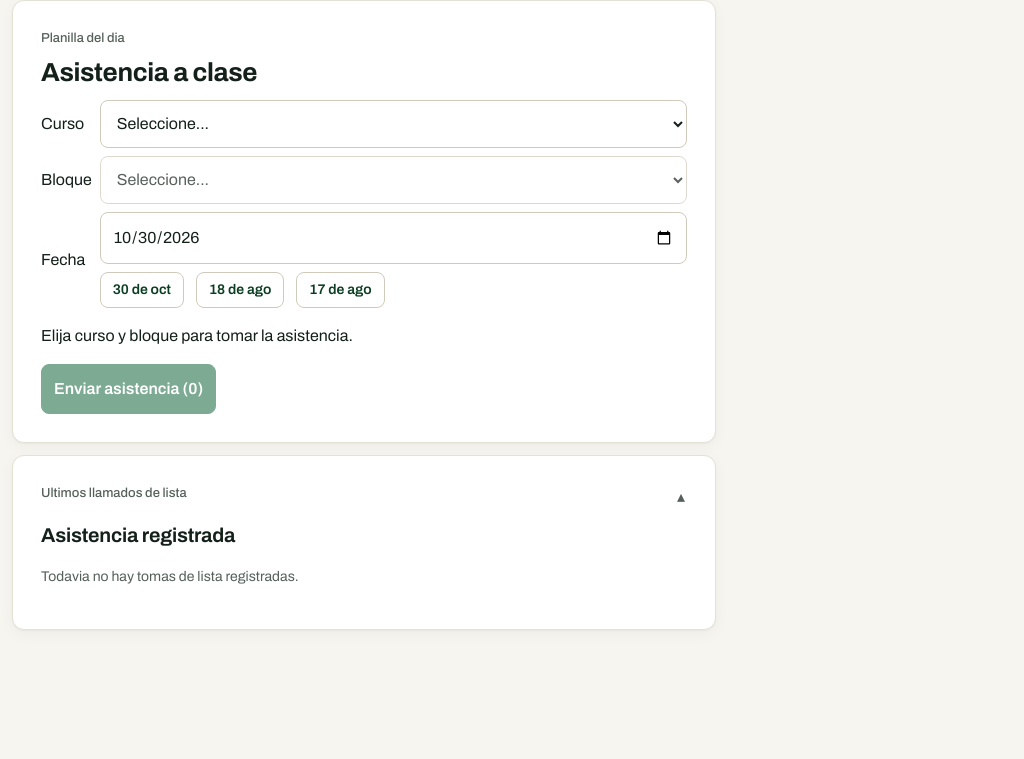
Test: TomarAsistencia › al abrir un bloque ya registrado muestra lo que hay guardado
Check: the dropdown labelled "Curso" is shown, box [100,100,687,148]
In the date field labelled "Fecha": [393, 238] box [100,212,687,264], type "2026-08-17"
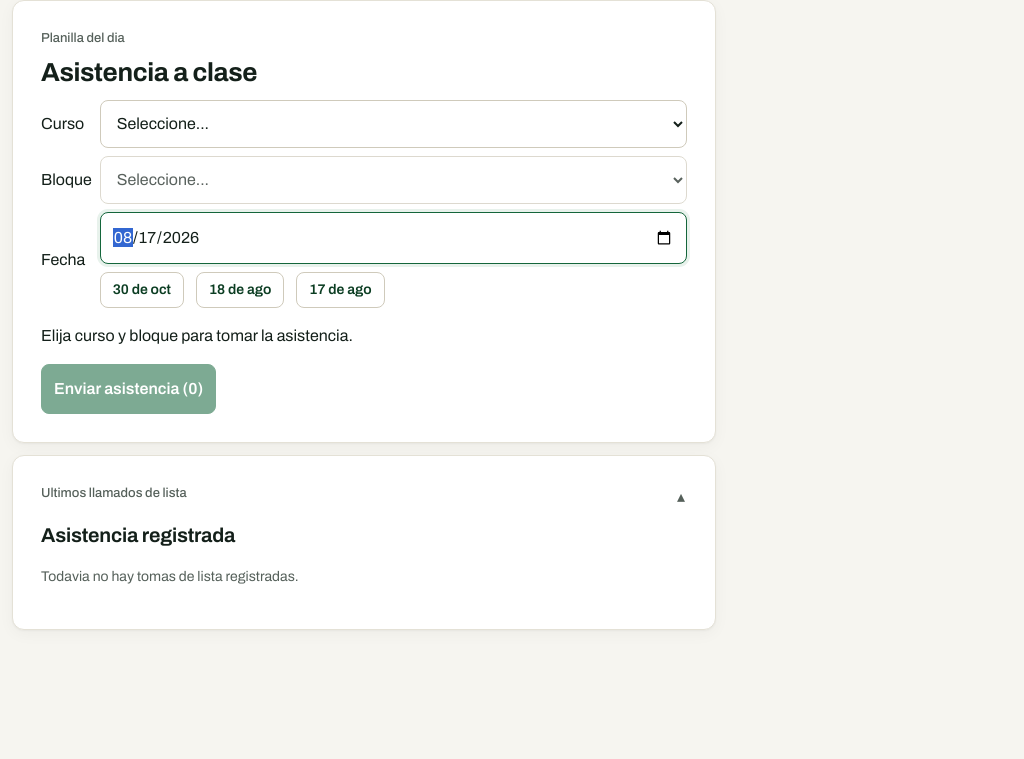
Select "601" in the dropdown labelled "Curso": [393, 124] box [100,100,687,148]
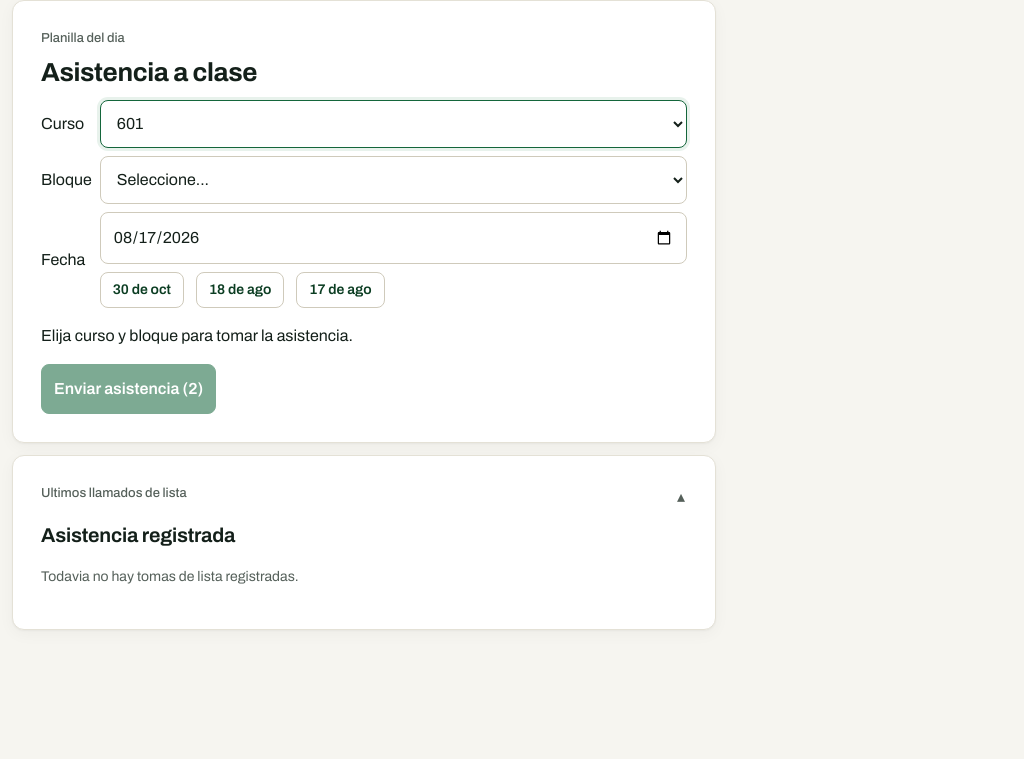
Check: the dropdown labelled "Bloque" is enabled
Select "4. Ciencias (09:00) · Dia 1" in the dropdown labelled "Bloque": [393, 180] box [100,156,687,204]
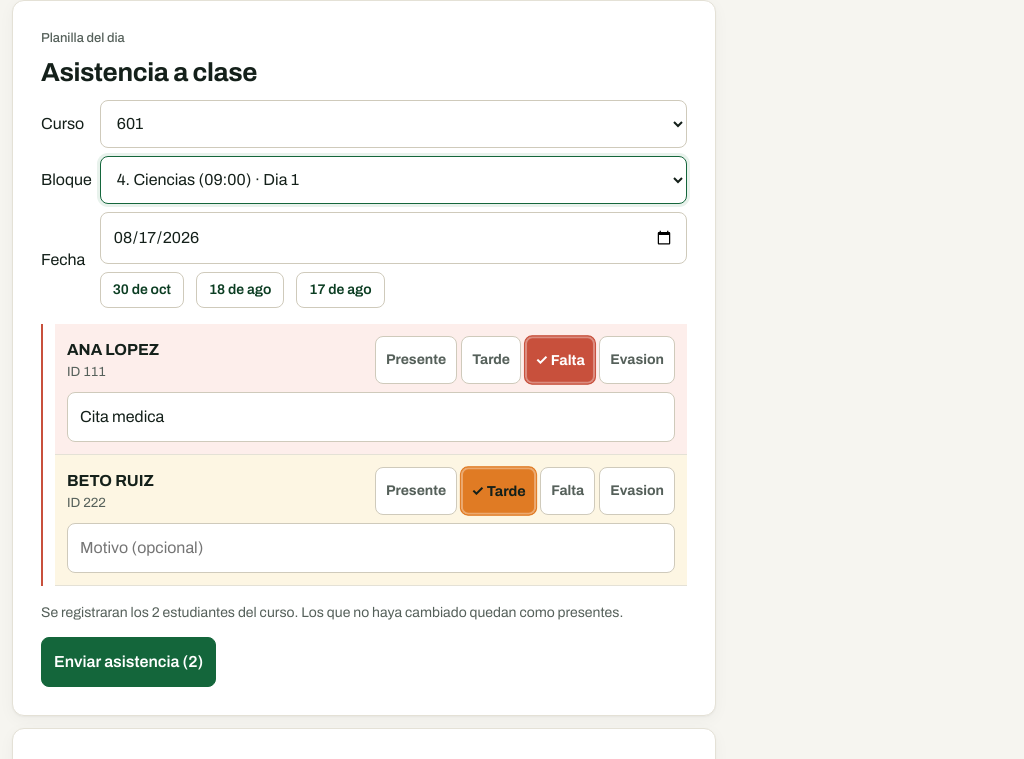
Check: the text "ANA LOPEZ" is shown, box [67,340,159,358]
Check: the field showing "Cita medica" is shown, box [67,392,675,442]
